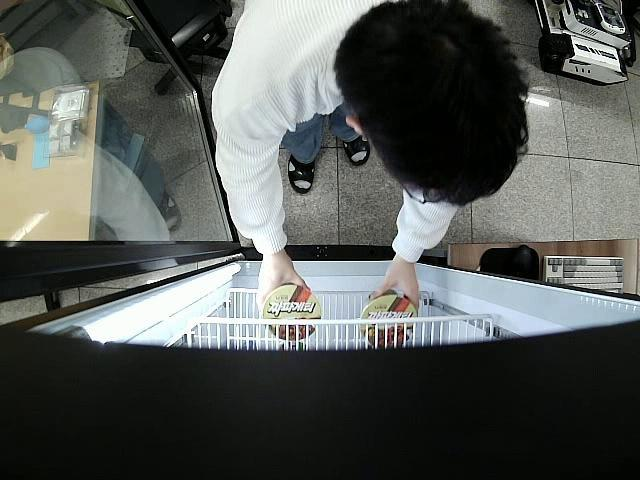03_chapagetti_L: (261, 281, 322, 342), (358, 290, 419, 348)
